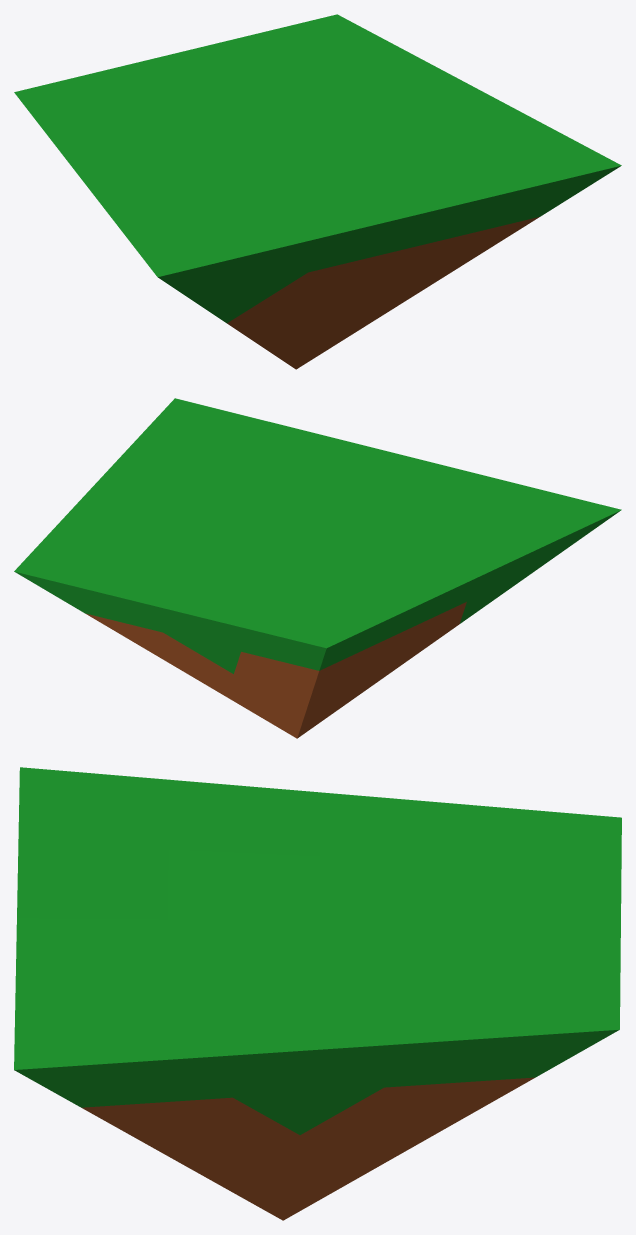
File: Platform07.fbx
The picture shows the model from 3 angles, top to bottom: view 1: azimuth 30°, elevation 25°; view 2: azimuth 150°, elevation 25°; view 3: azimuth 270°, elevation 25°; orthographic projection. The views are drawn at different scales.
Visible parts, largest first — view 1: Cone; view 2: Cone; view 3: Cone.
Boxes of the visible parts, left/top/right/bottom form: Cone: left=14, top=14, right=621, bottom=369; Cone: left=14, top=398, right=621, bottom=738; Cone: left=14, top=767, right=621, bottom=1220.
Bounding box in the file's own units: 182 × 83.87 × 154.
